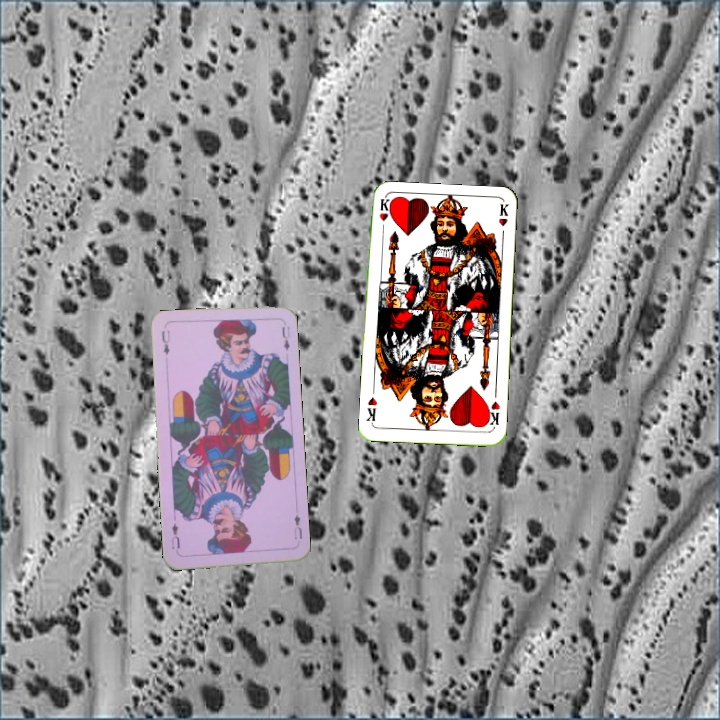EU: (290, 510, 305, 542), (158, 326, 173, 358)
HK: (375, 196, 392, 236), (482, 398, 502, 430)
